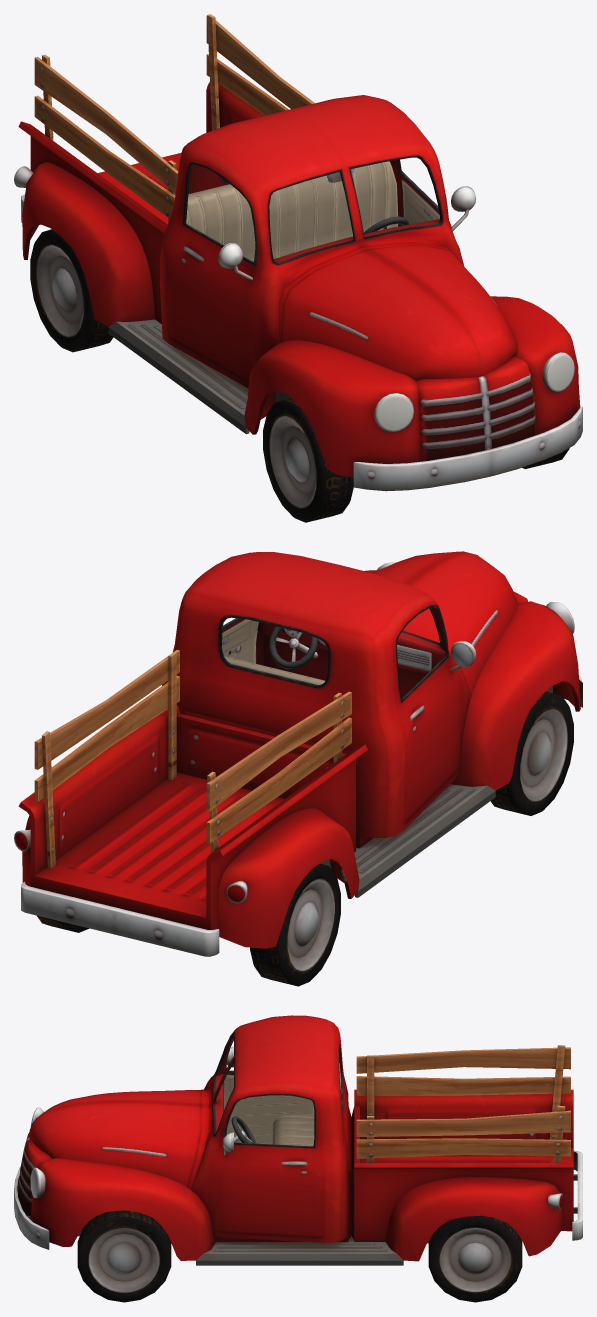
Rendered from CarOld02.FBX.
The picture shows the model from 3 angles, top to bottom: view 1: azimuth 30°, elevation 25°; view 2: azimuth 150°, elevation 25°; view 3: azimuth 270°, elevation 25°; orthographic projection. The views are drawn at different scales.
Visible parts, largest first — view 1: CarOld02; view 2: CarOld02; view 3: CarOld02.
Boxes of the visible parts, bbox=[...] form: CarOld02: bbox=[14, 14, 582, 522]; CarOld02: bbox=[14, 551, 582, 986]; CarOld02: bbox=[14, 1015, 582, 1302].
Bounding box in the file's own units: 1.83 × 1.9 × 4.55.
